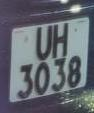0: (33, 60, 52, 98)
3: (14, 59, 36, 102), (50, 56, 68, 94)
8: (66, 52, 84, 92)
H: (53, 18, 71, 62)
U: (34, 23, 54, 62)
